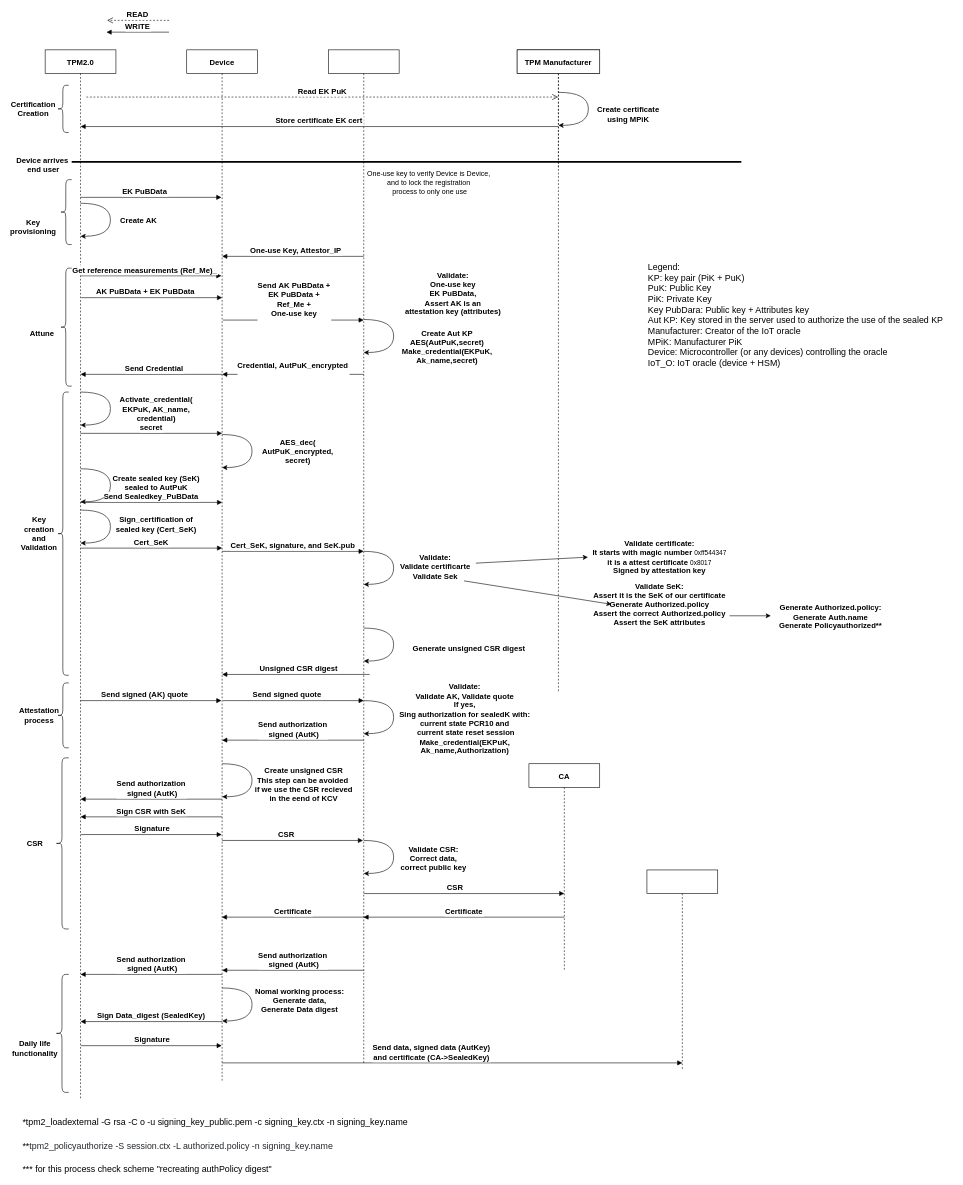
Image size: 963x1185. Some labels were removed from this diagram. Here are the shapes that lost their labels. From the top down, the box of each, then its label:
(328, 49, 399, 1065): Attestor
(646, 869, 718, 1071): Device stakeholder
